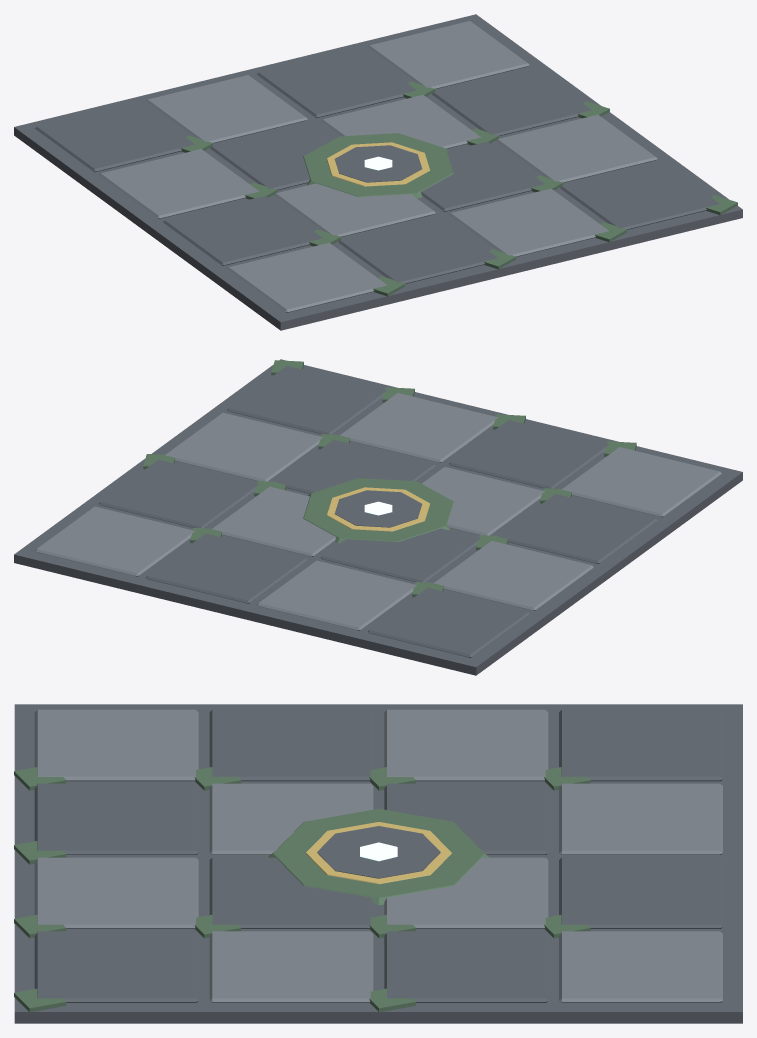
Rendered from castle_floor.glb.
3 views of the same model, one above another, from view 1: azimuth 30°, elevation 25°; view 2: azimuth 150°, elevation 25°; view 3: azimuth 270°, elevation 25° (orthographic). The views are drawn at different scales.
Visible parts, largest first — view 1: Castle_Floor; view 2: Castle_Floor; view 3: Castle_Floor.
Boxes of the visible parts, box(x1,y1,x2,y2) form: Castle_Floor: box(14, 14, 742, 330); Castle_Floor: box(14, 359, 742, 675); Castle_Floor: box(14, 704, 742, 1023).
Size of the model in its own units: 4 by 0.11 by 4.
